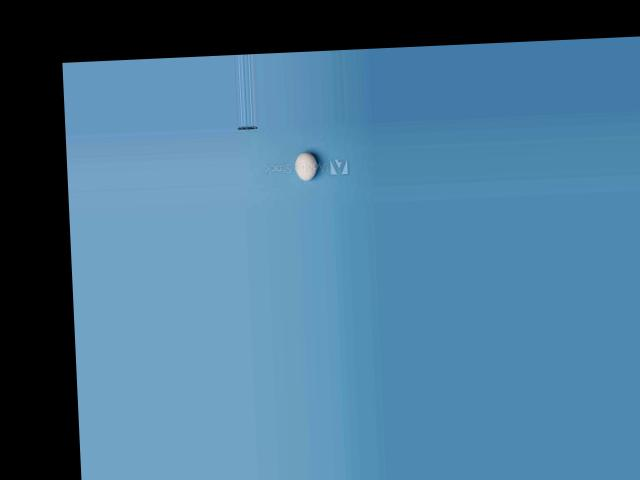egg: (294, 151, 317, 180)
